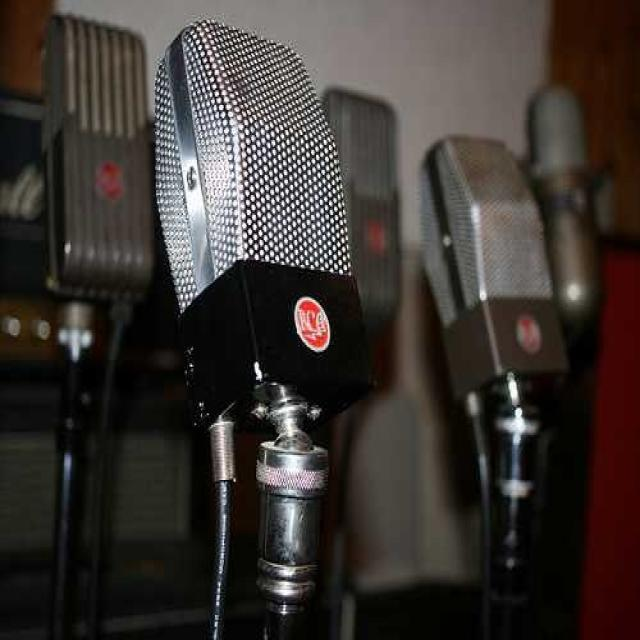microphone: (153, 20, 374, 437), (423, 99, 568, 426), (38, 10, 150, 347), (334, 71, 418, 385), (540, 69, 599, 392)
